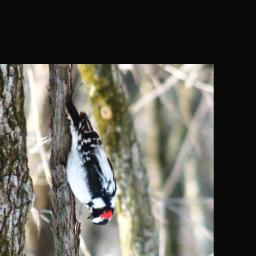Woodpecker: (58, 92, 120, 225)
